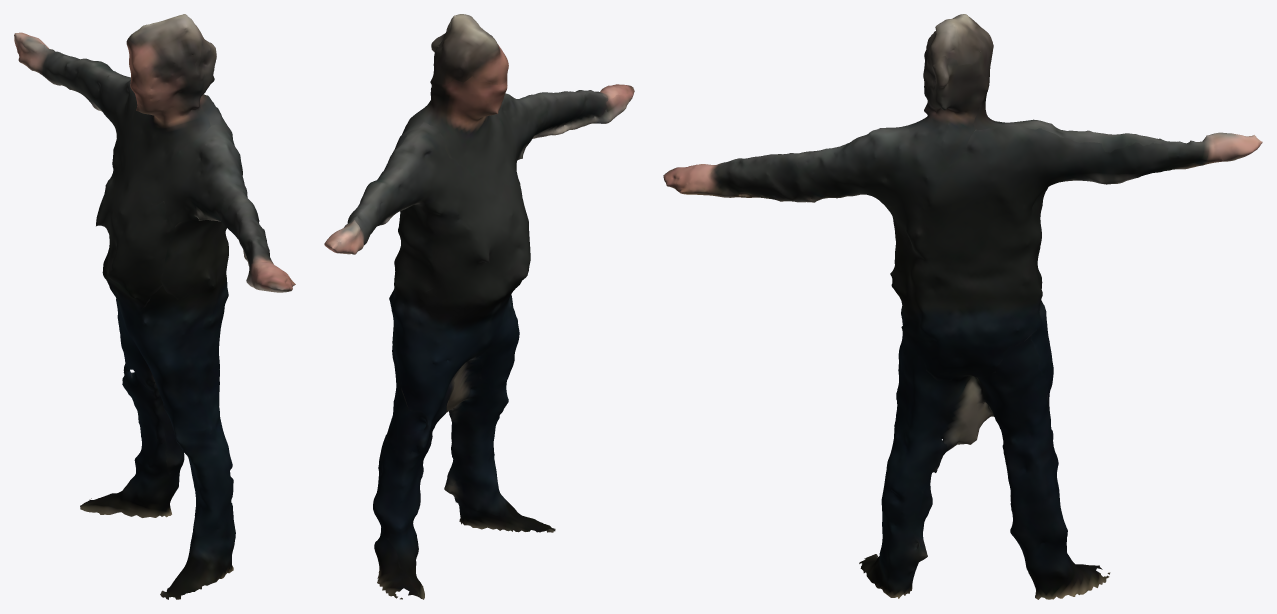
The model's file is finnfbx.fbx.
3 views of the same model, side by side, from view 1: azimuth 30°, elevation 25°; view 2: azimuth 150°, elevation 25°; view 3: azimuth 270°, elevation 25° (orthographic). The views are drawn at different scales.
Visible parts, largest first — view 1: 3DModel; view 2: 3DModel; view 3: 3DModel.
Boxes of the visible parts, bbox=[...] form: 3DModel: bbox=[14, 14, 295, 599]; 3DModel: bbox=[324, 14, 634, 599]; 3DModel: bbox=[663, 14, 1262, 599].
Bounding box in the file's own units: 35.45 × 157 × 151.
Materials: 1 (1 with a texture image).
